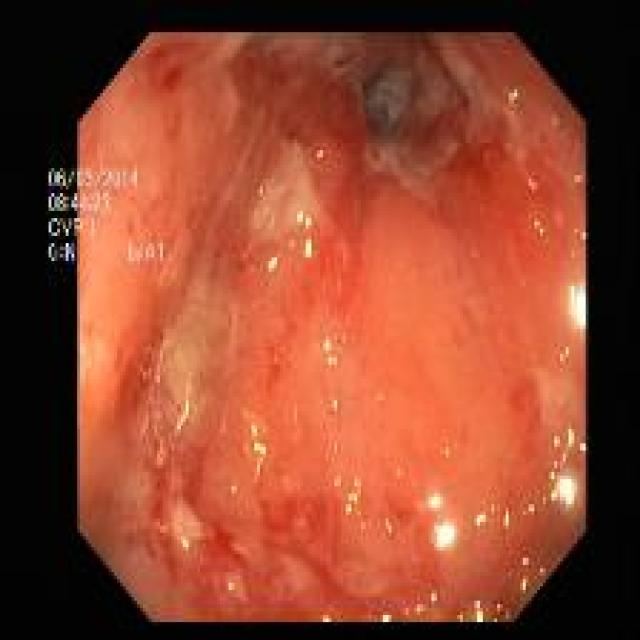ulcerative-colitis: (76, 33, 586, 622)
